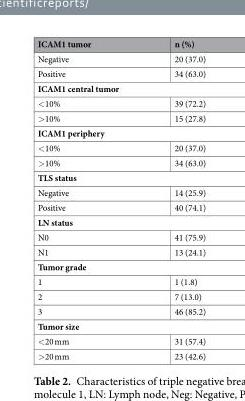table: (36, 37, 205, 361)
table column: (36, 37, 132, 361), (132, 37, 205, 361)
table column header: (36, 37, 205, 50)
table projected row header: (36, 80, 205, 95), (36, 125, 205, 140), (36, 169, 205, 184), (36, 214, 205, 229), (36, 258, 205, 273), (36, 318, 205, 333)
table row: (36, 50, 205, 65), (36, 65, 205, 80), (36, 80, 205, 95), (36, 95, 205, 110), (36, 110, 205, 125), (36, 125, 205, 140), (36, 154, 205, 169), (36, 169, 205, 184), (36, 184, 205, 199), (36, 199, 205, 214), (36, 214, 205, 229), (36, 229, 205, 244), (36, 258, 205, 273), (36, 273, 205, 288), (36, 288, 205, 303), (36, 303, 205, 318), (36, 318, 205, 333), (36, 333, 205, 348), (36, 140, 205, 154), (36, 244, 205, 258), (36, 37, 205, 50), (36, 348, 205, 361)
